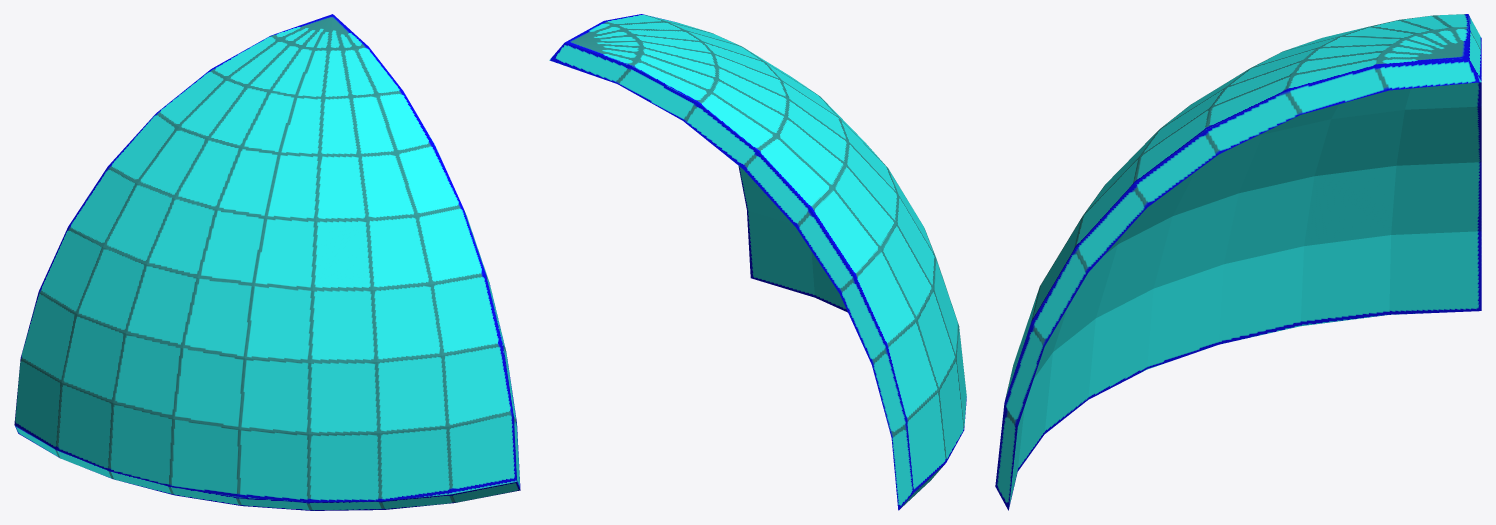
Rendered from 8thSphere_v02.gltf.
3 renders of one model, left to right at view 1: azimuth 30°, elevation 25°; view 2: azimuth 150°, elevation 25°; view 3: azimuth 270°, elevation 25°, orthographic. The views are drawn at different scales.
Parts seen in each view (by area): view 1: Sphere; view 2: Sphere; view 3: Sphere.
Boxes of the visible parts, x1,y1,x2,y2 form: Sphere: (14, 14, 520, 510); Sphere: (549, 14, 966, 510); Sphere: (995, 14, 1481, 510).
Bounding box in the file's own units: 1.03 × 1.04 × 1.03.
1 material, 1 textured.
